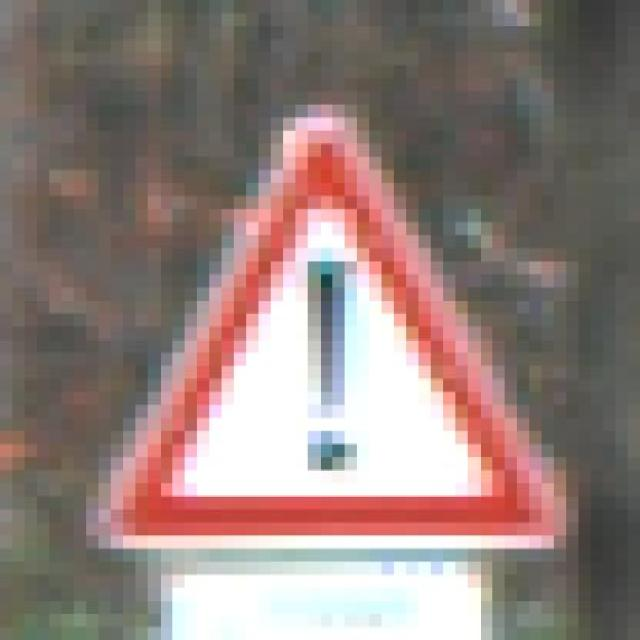Attention Please-: (86, 90, 579, 588)
